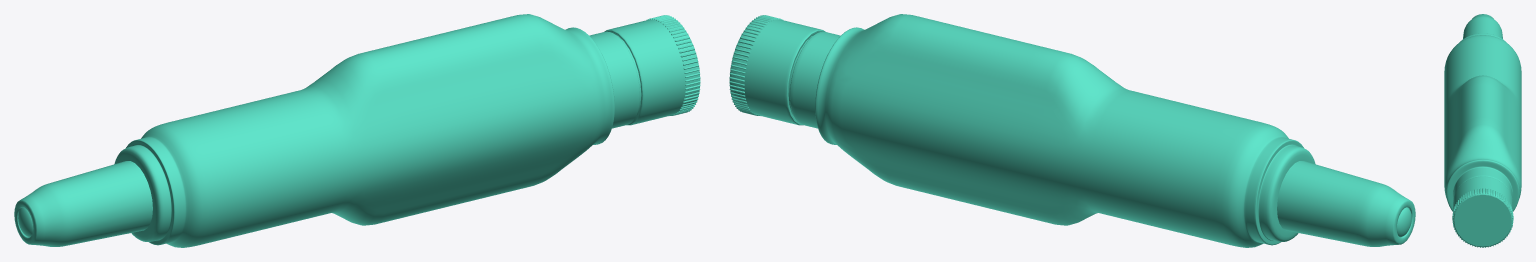
Rendered from AutoinjectorDiazepam.FBX.
3 views of the same model, side by side, from view 1: azimuth 30°, elevation 25°; view 2: azimuth 150°, elevation 25°; view 3: azimuth 270°, elevation 25° (orthographic). The views are drawn at different scales.
Parts seen in each view (by area): view 1: AutoinjectorDiazepam; view 2: AutoinjectorDiazepam; view 3: AutoinjectorDiazepam.
Part boxes in pixels (bbox=[...]): AutoinjectorDiazepam: bbox=[14, 14, 700, 247]; AutoinjectorDiazepam: bbox=[729, 14, 1415, 247]; AutoinjectorDiazepam: bbox=[1444, 14, 1521, 247].
Bounding box in the file's own units: 12.86 × 3.13 × 2.15.
